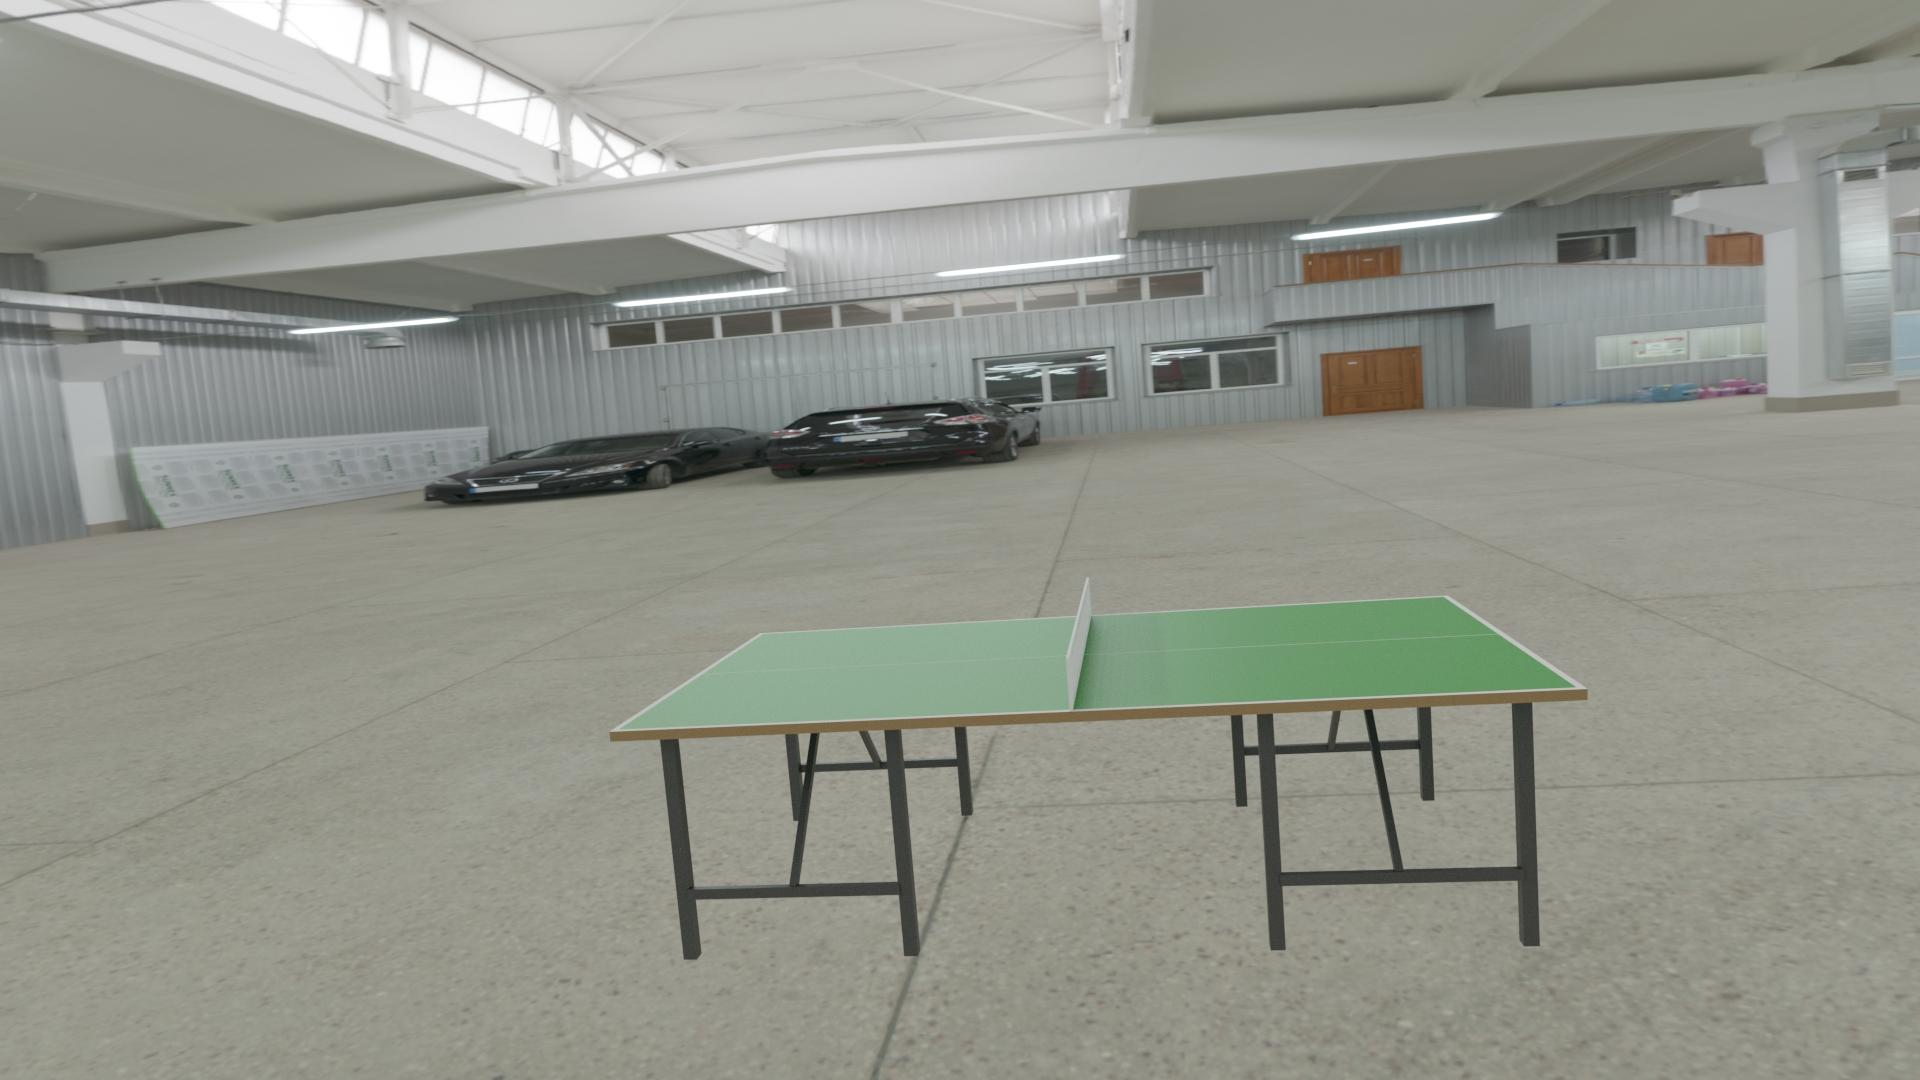table: (618, 597, 1577, 729)
